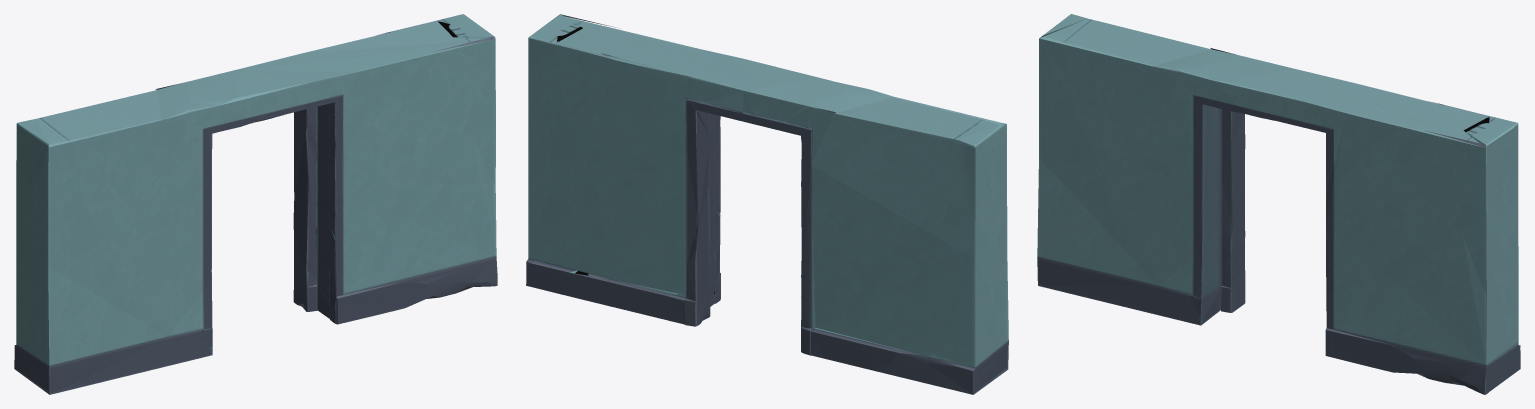
The model's file is Meshy_AI_vet_clinic_doorway_balanced_20261026_texture_remesh_tri.fbx.
3 renders of one model, left to right at view 1: azimuth 30°, elevation 25°; view 2: azimuth 150°, elevation 25°; view 3: azimuth 330°, elevation 25°, orthographic.
Parts seen in each view (by area): view 1: output_unwrapped; view 2: output_unwrapped; view 3: output_unwrapped.
Boxes of the visible parts, x1,y1,x2,y2 form: output_unwrapped: [14, 14, 497, 394]; output_unwrapped: [526, 14, 1008, 394]; output_unwrapped: [1037, 14, 1520, 394].
Bounding box in the file's own units: 190 × 101 × 26.3.
Materials: 1 (1 with a texture image).
